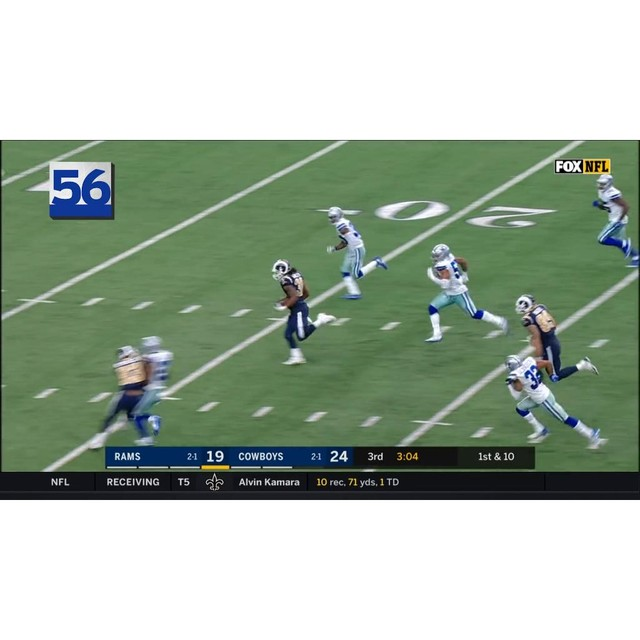american-football-player: (501, 354, 604, 450), (268, 258, 346, 363), (425, 243, 505, 343), (514, 293, 599, 385), (91, 344, 152, 448), (324, 207, 391, 297), (588, 174, 640, 266), (131, 335, 176, 441)
